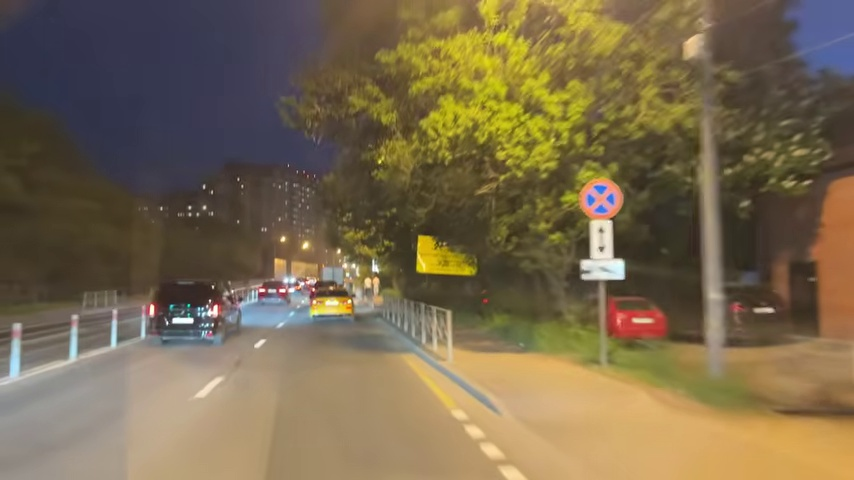acesa: (829, 183, 853, 224)
